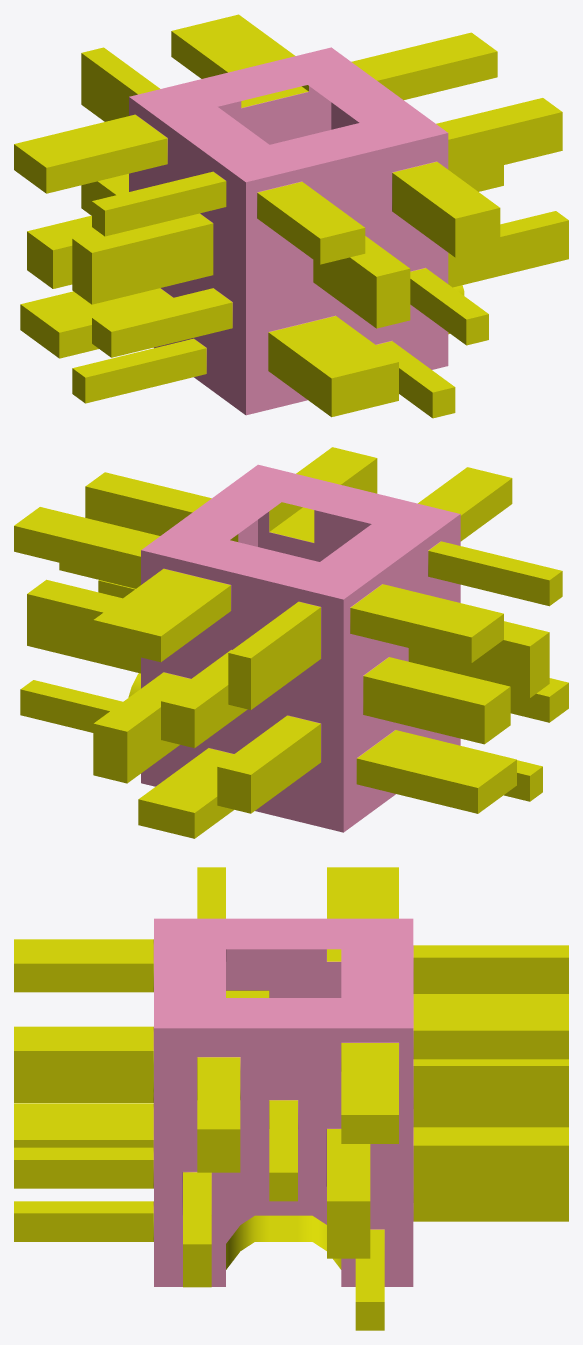
Rendered from cubby_room_fix.fbx.
The picture shows the model from 3 angles, top to bottom: view 1: azimuth 30°, elevation 25°; view 2: azimuth 150°, elevation 25°; view 3: azimuth 270°, elevation 25°; orthographic projection. The views are drawn at different scales.
Parts seen in each view (by area): view 1: Cubby_Room_V1; view 2: Cubby_Room_V1; view 3: Cubby_Room_V1.
Boxes of the visible parts, bbox=[...] form: Cubby_Room_V1: bbox=[14, 14, 568, 418]; Cubby_Room_V1: bbox=[14, 447, 568, 838]; Cubby_Room_V1: bbox=[14, 867, 568, 1330].
Size of the model in its own units: 1130 by 550 by 1070.
